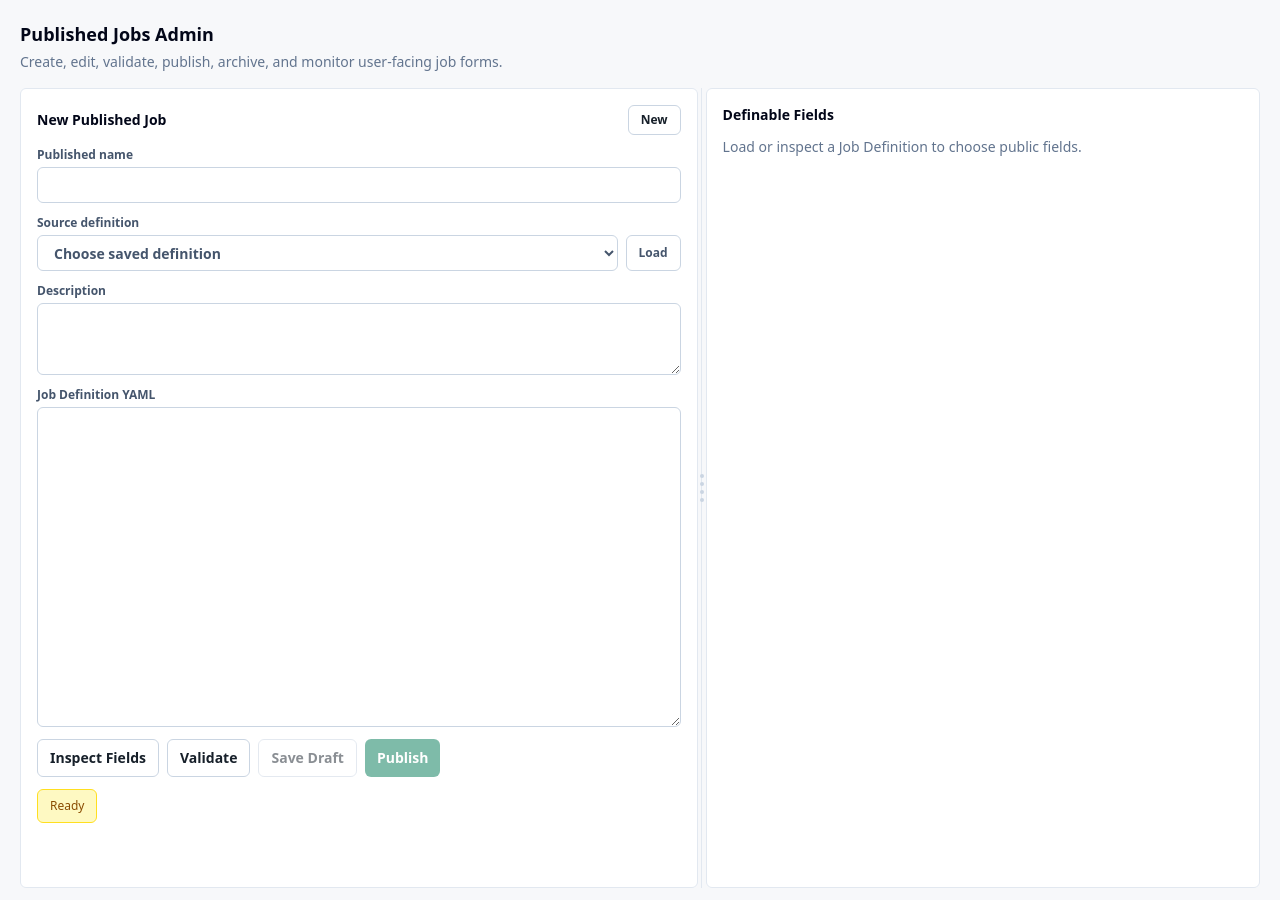
Test: PublishedJobsAdminPage field editor › seeds the default value from the job's Defaults section when a field is selected
This screenshot has width=1280, height=900.
Click the button "Inspect Fields": {"x": 98, "y": 758} [37, 739, 159, 777]
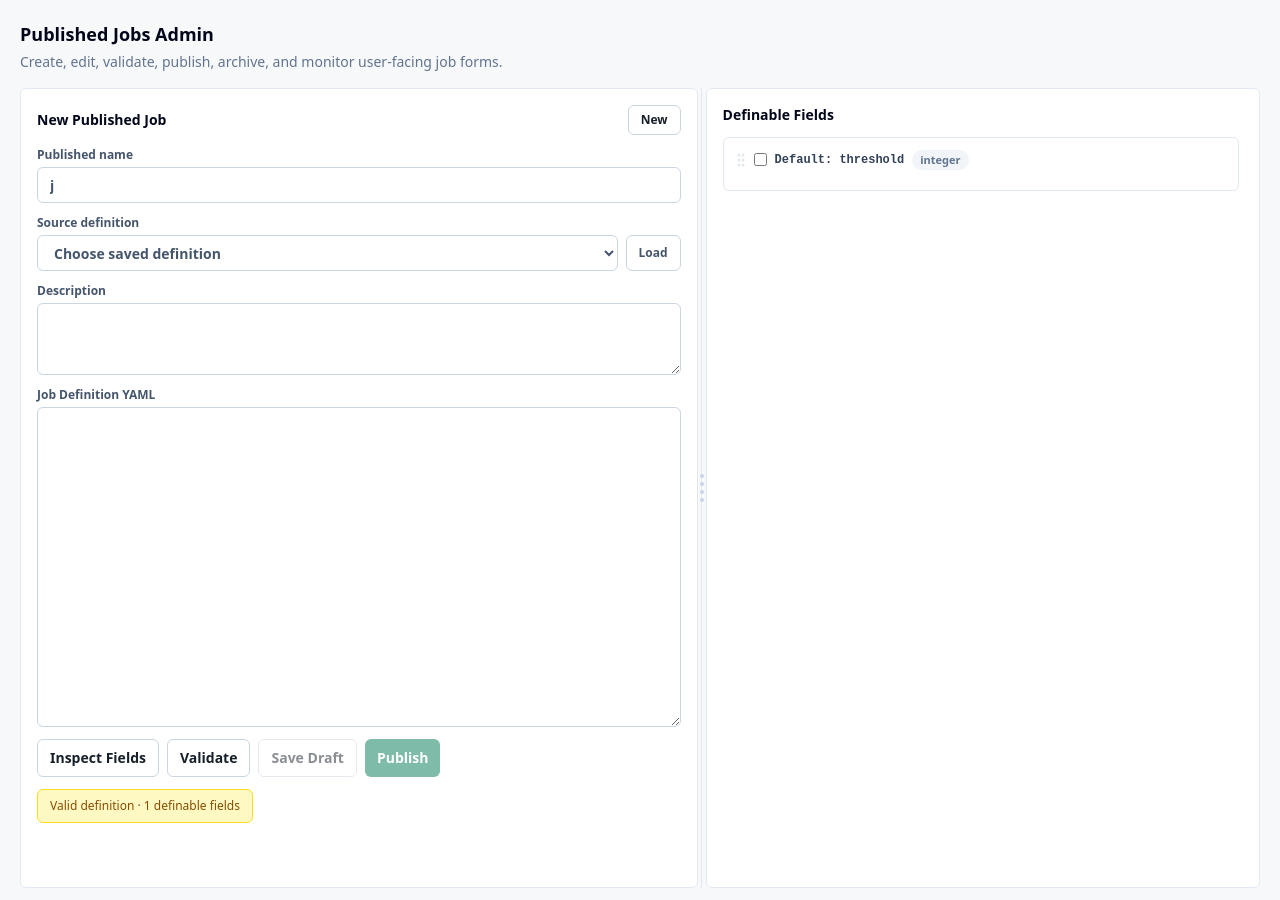
Check: the text "Valid definition · 1 definable fields" is shown, box [37, 789, 253, 823]
Click the checkbox: {"x": 760, "y": 160} [754, 153, 767, 166]
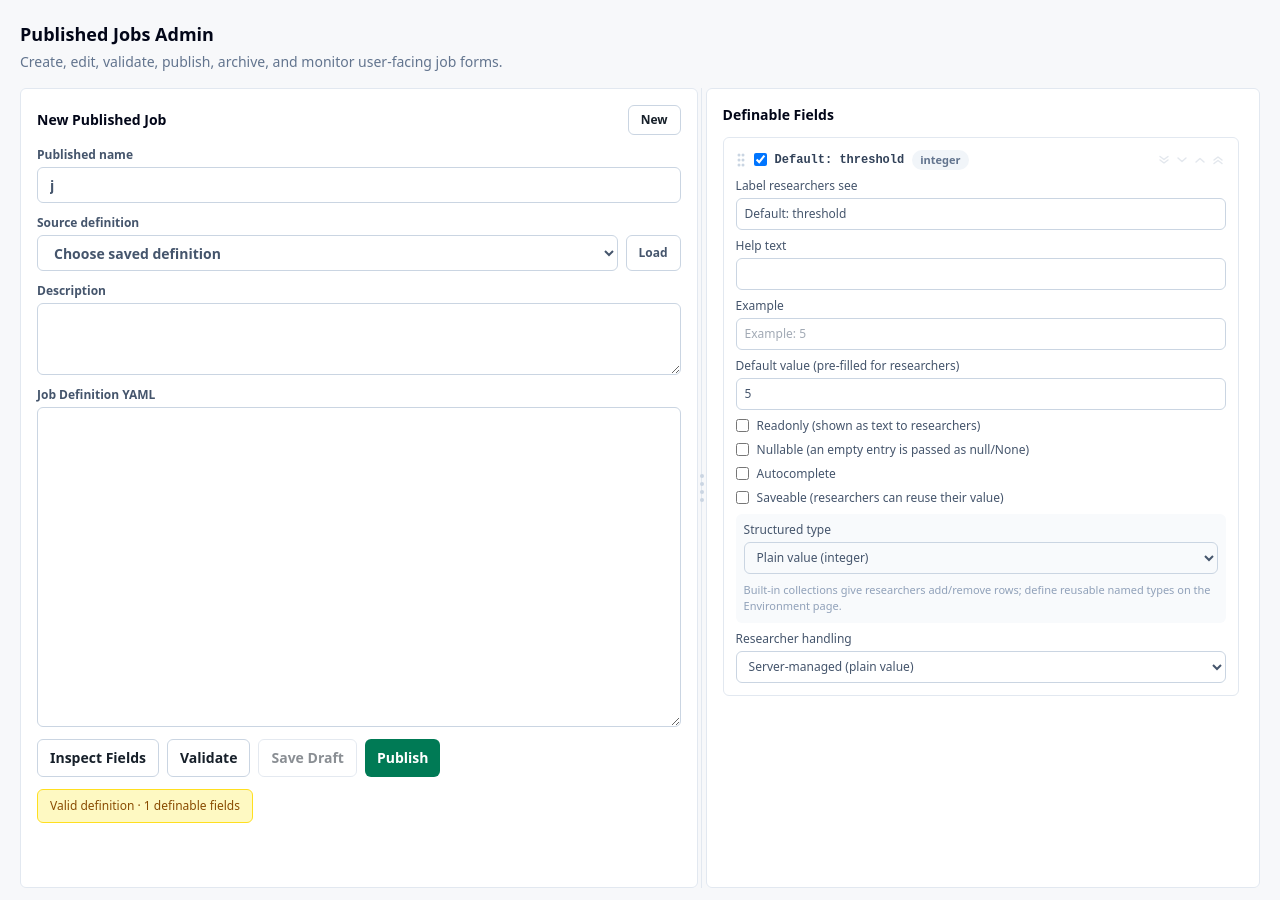
Check: the field showing "5" is shown, box [736, 378, 1226, 410]
